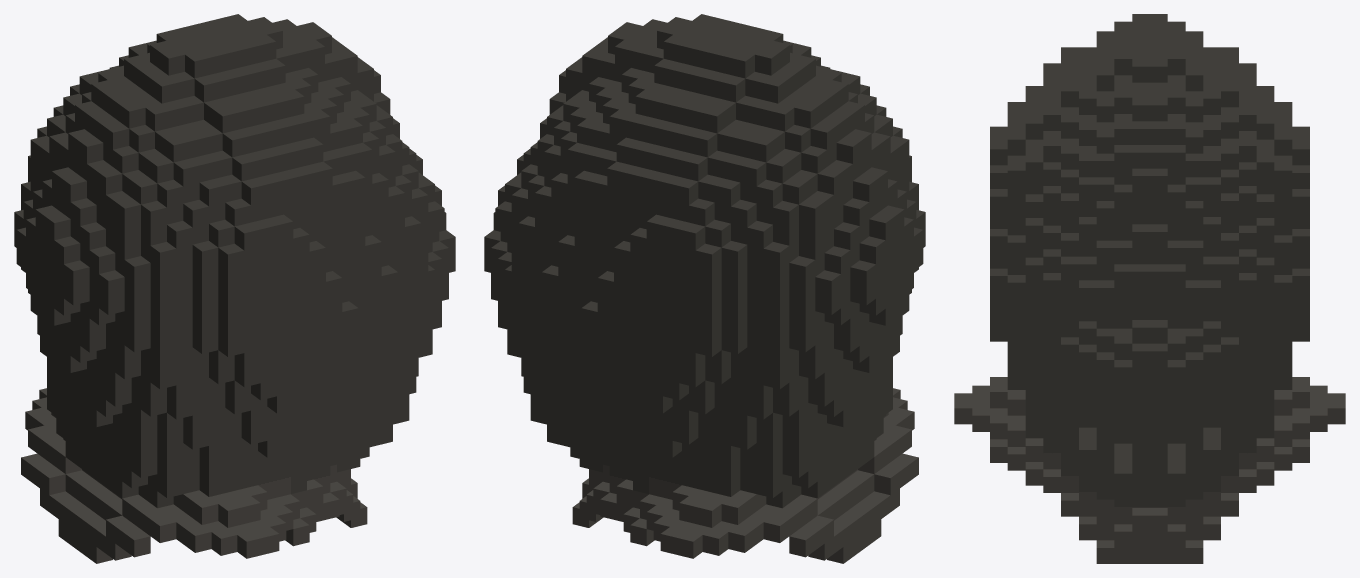
Rendered from Helm_Milan_F.obj.
3 renders of one model, left to right at view 1: azimuth 30°, elevation 25°; view 2: azimuth 150°, elevation 25°; view 3: azimuth 270°, elevation 25°, orthographic. The views are drawn at different scales.
Parts seen in each view (by area): view 1: Helm_Milan_F; view 2: Helm_Milan_F; view 3: Helm_Milan_F.
Part boxes in pixels (box(x1,y1,x2,y2)): Helm_Milan_F: box(14, 14, 455, 563); Helm_Milan_F: box(484, 14, 925, 563); Helm_Milan_F: box(954, 14, 1345, 563).
Bounding box in the file's own units: 24 × 29 × 22.
